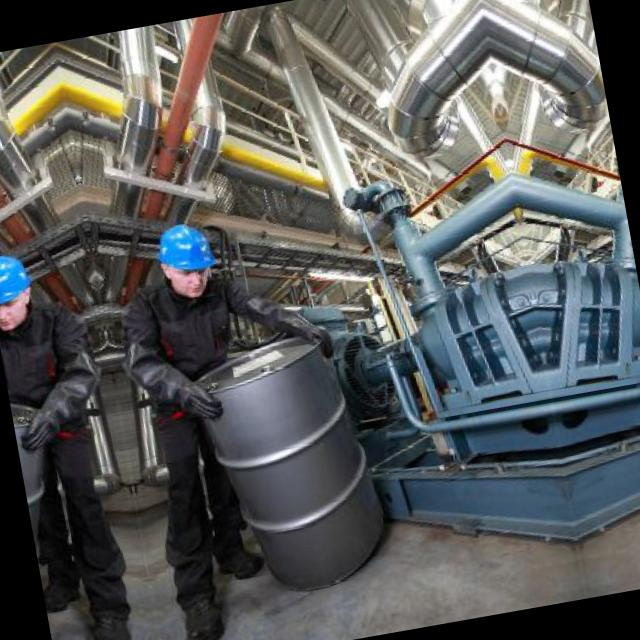helmet: (143, 218, 222, 305), (0, 248, 48, 334)
